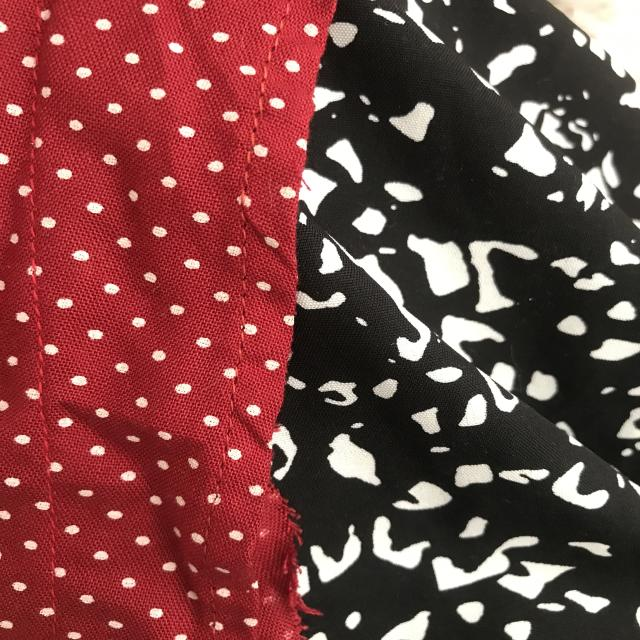good: (31, 326, 71, 579), (19, 115, 54, 296)
